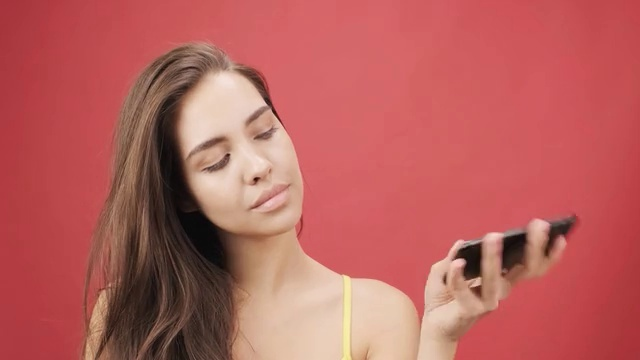phone: (436, 206, 587, 290)
